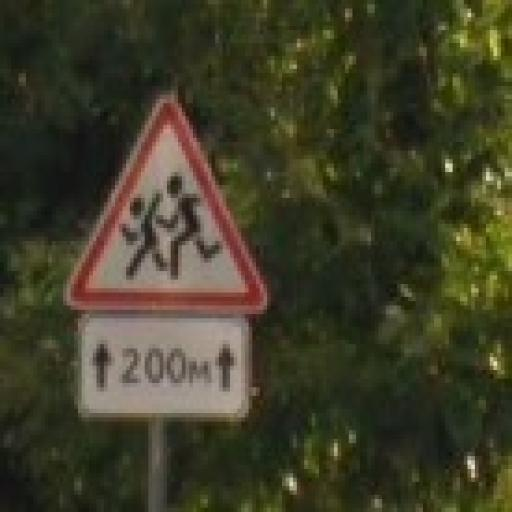traffic_sign: (64, 96, 268, 315)
